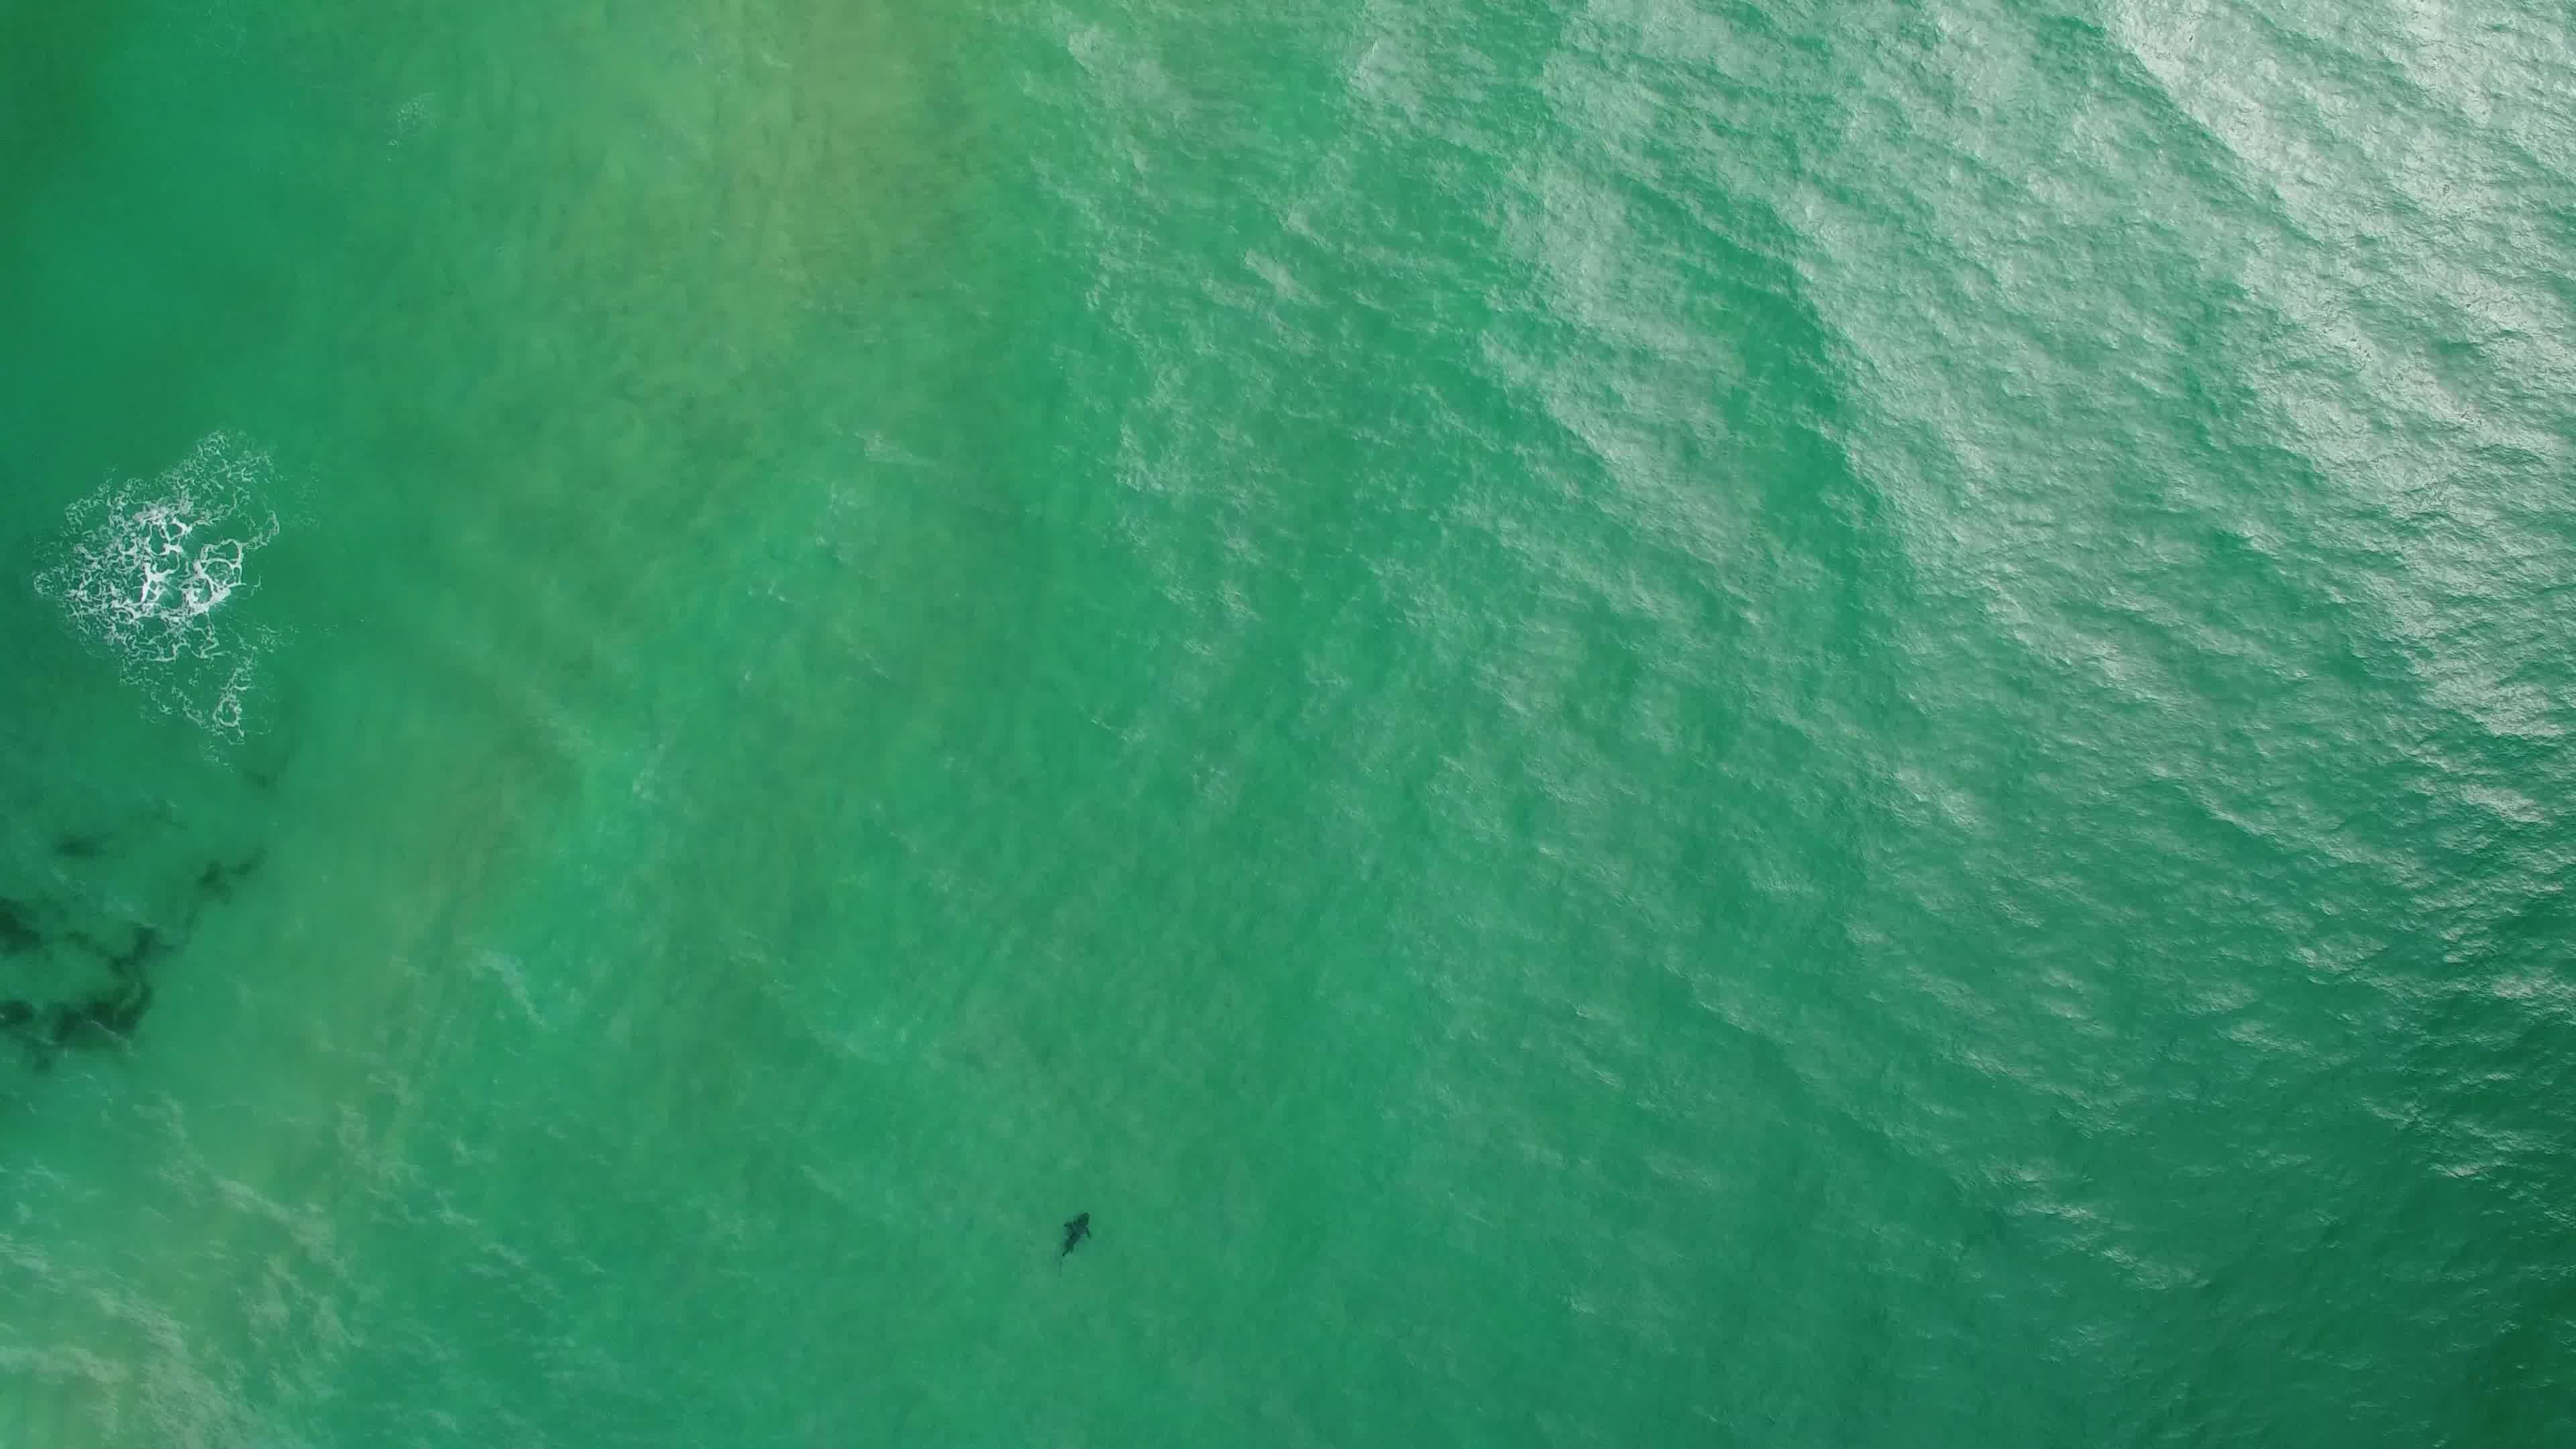shark: (1058, 1207, 1097, 1265)
